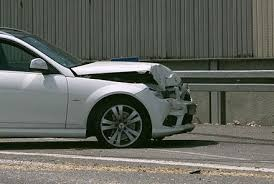Smashed: (68, 59, 195, 142)
